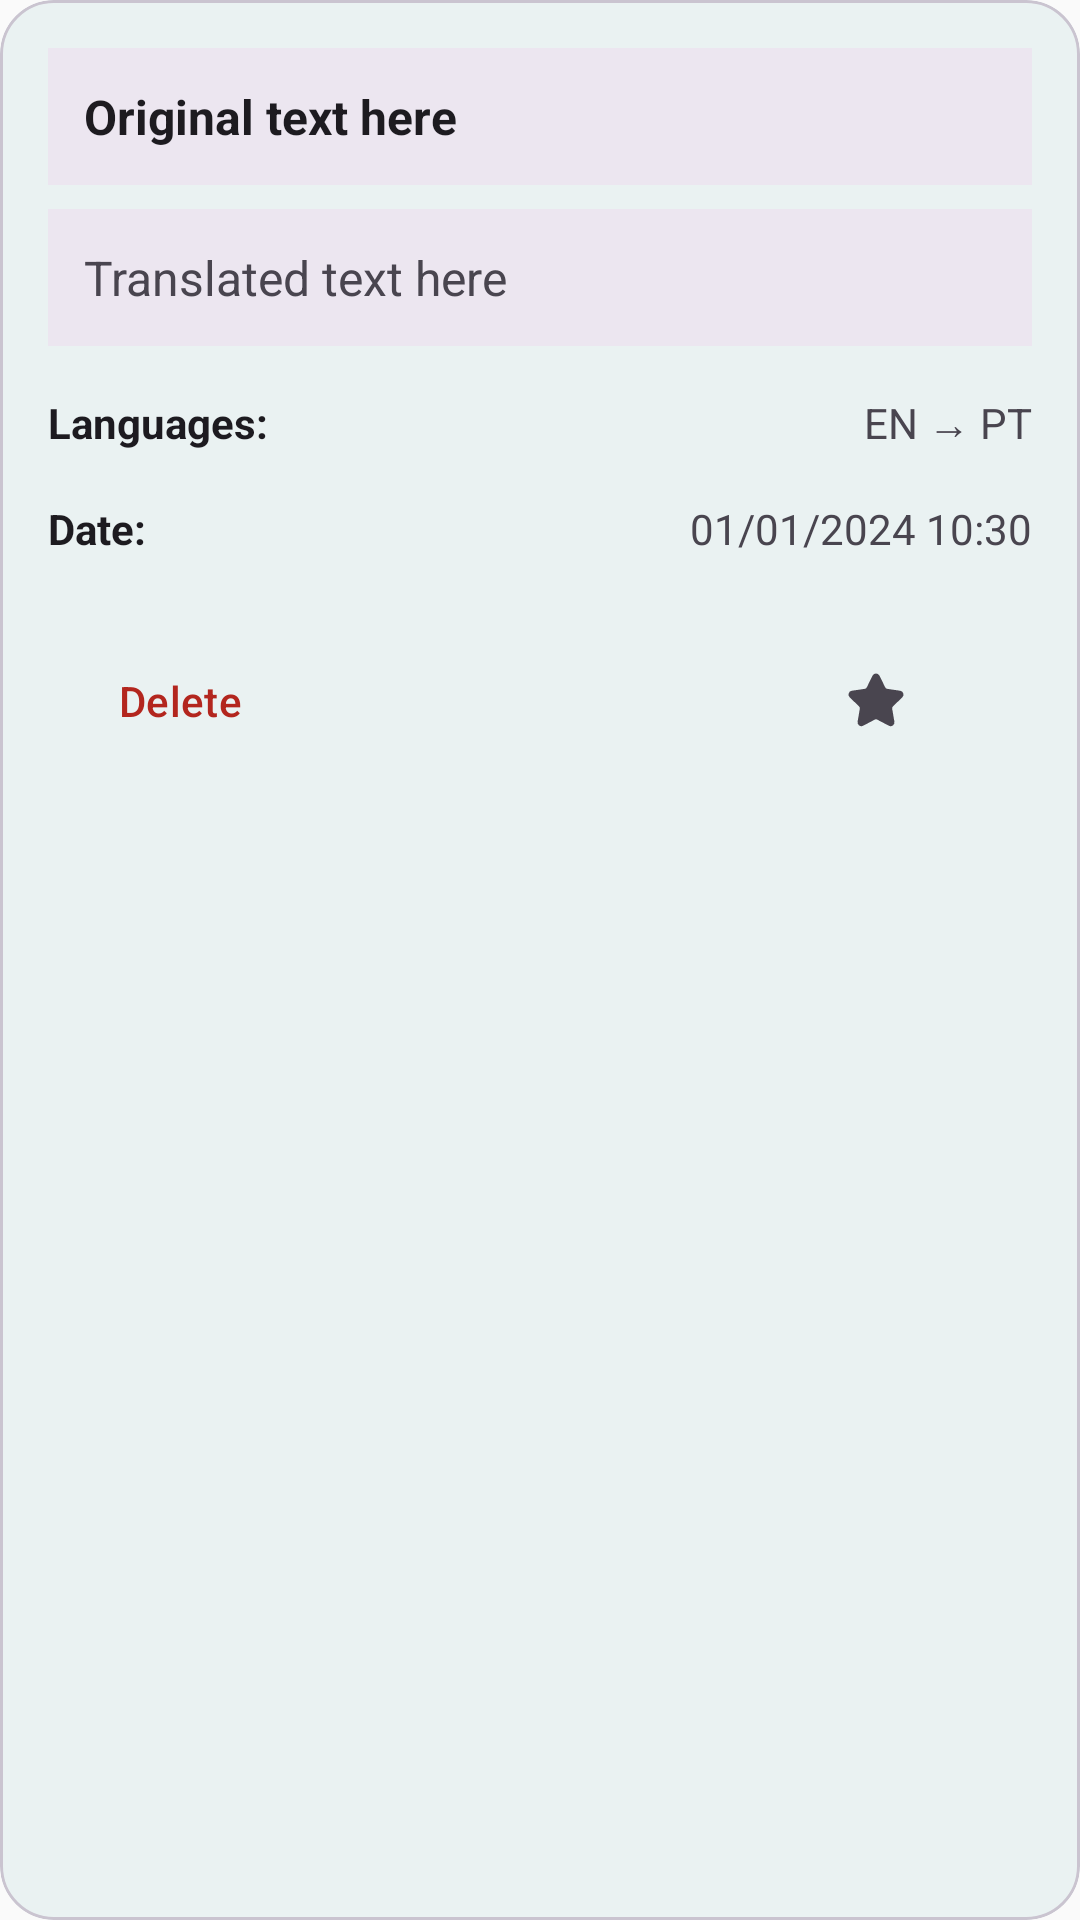

Point at icon controls on the screen. Image size 1080px×1920px, points as (x=x, y=y).
favorite: (x=876, y=700)
